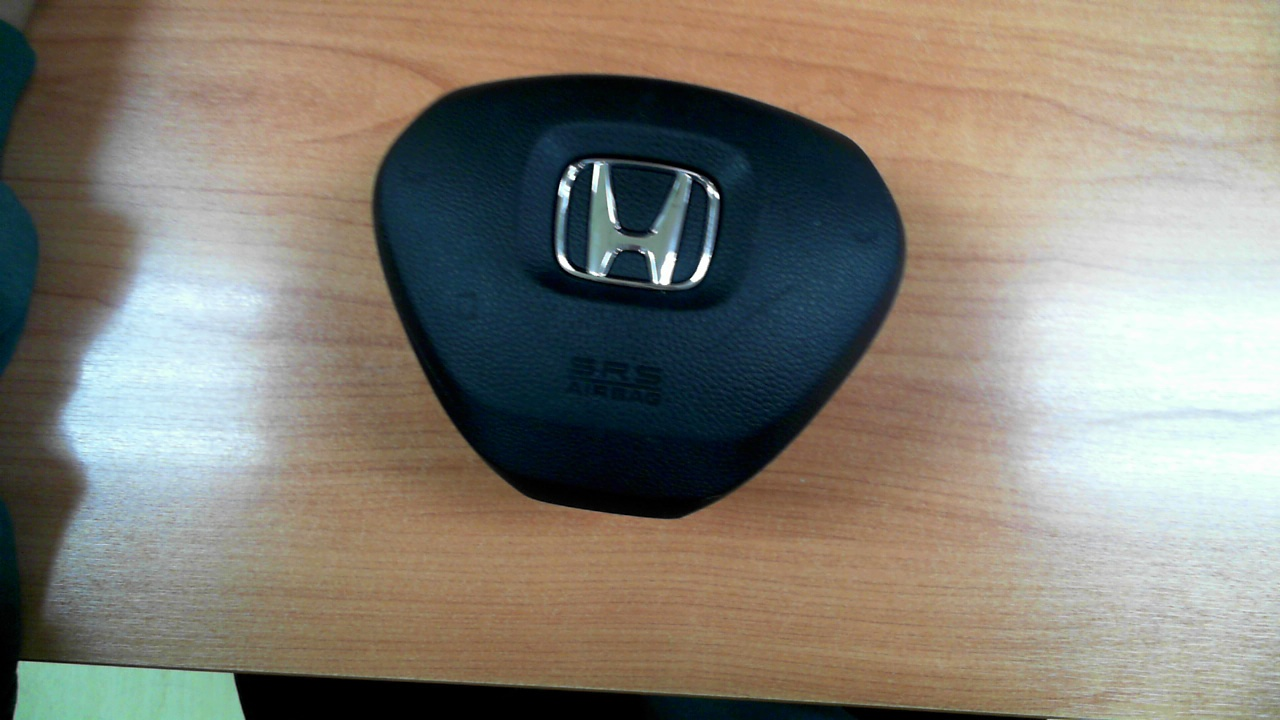Airbag: (372, 73, 906, 519)
Honda: (556, 158, 721, 286)
